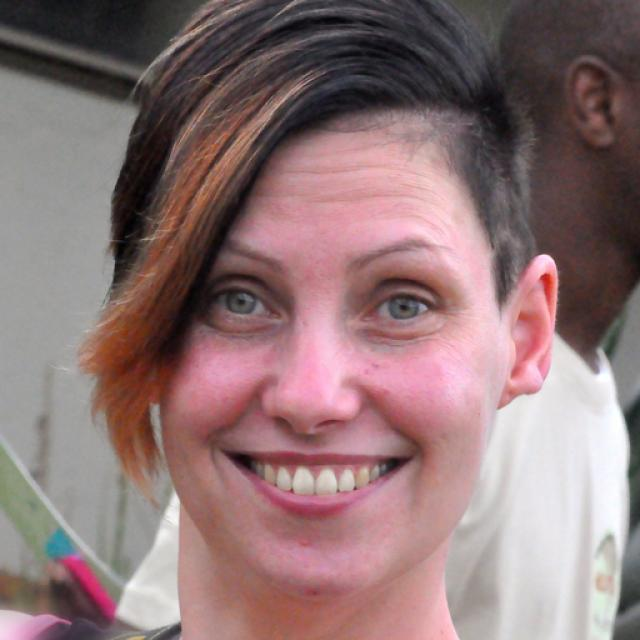Acne: (376, 376, 398, 399), (292, 531, 314, 552)
